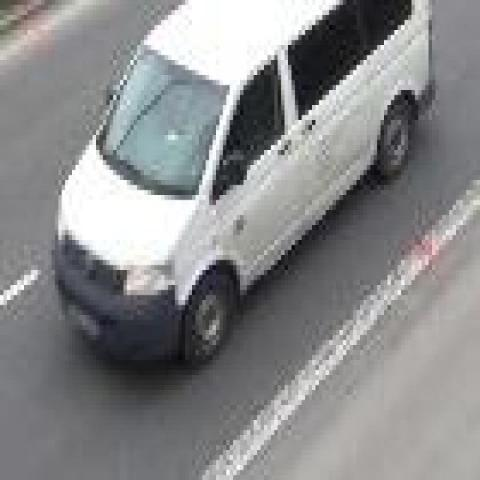van: (48, 0, 436, 375)
